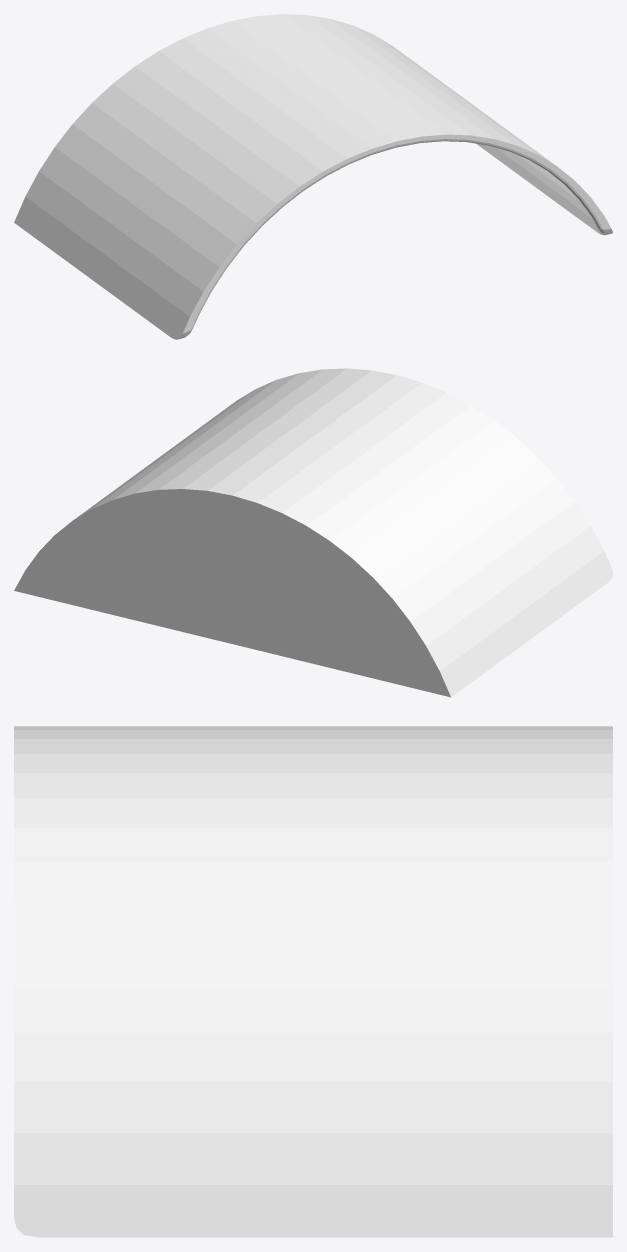
The model's file is paredcircular.obj.
3 views of the same model, one above another, from view 1: azimuth 30°, elevation 25°; view 2: azimuth 150°, elevation 25°; view 3: azimuth 270°, elevation 25° (orthographic). The views are drawn at different scales.
Parts seen in each view (by area): view 1: Object.1; view 2: Object.1; view 3: Object.1.
Part boxes in pixels (left/top/right/bottom): Object.1: left=14, top=14, right=612, bottom=339; Object.1: left=14, top=368, right=612, bottom=697; Object.1: left=14, top=726, right=612, bottom=1237.
Size of the model in its own units: 142 by 46.1 by 92.57.
Materials: 1 (1 with a texture image).
